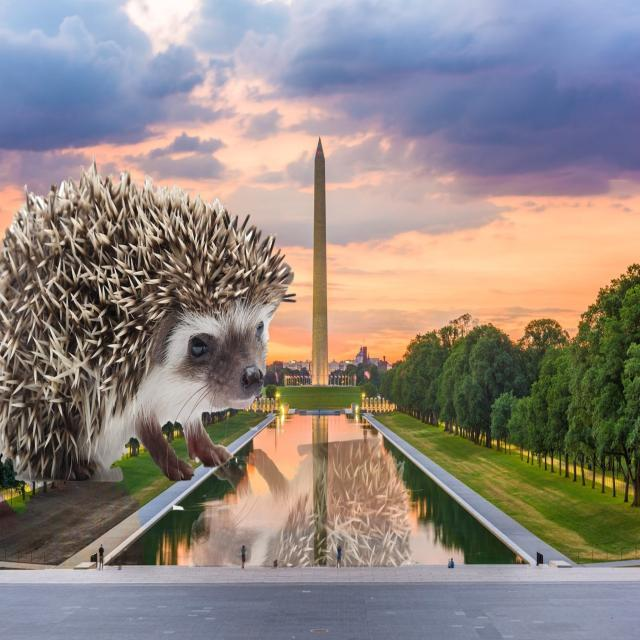Hedgehog: (0, 155, 296, 515)
